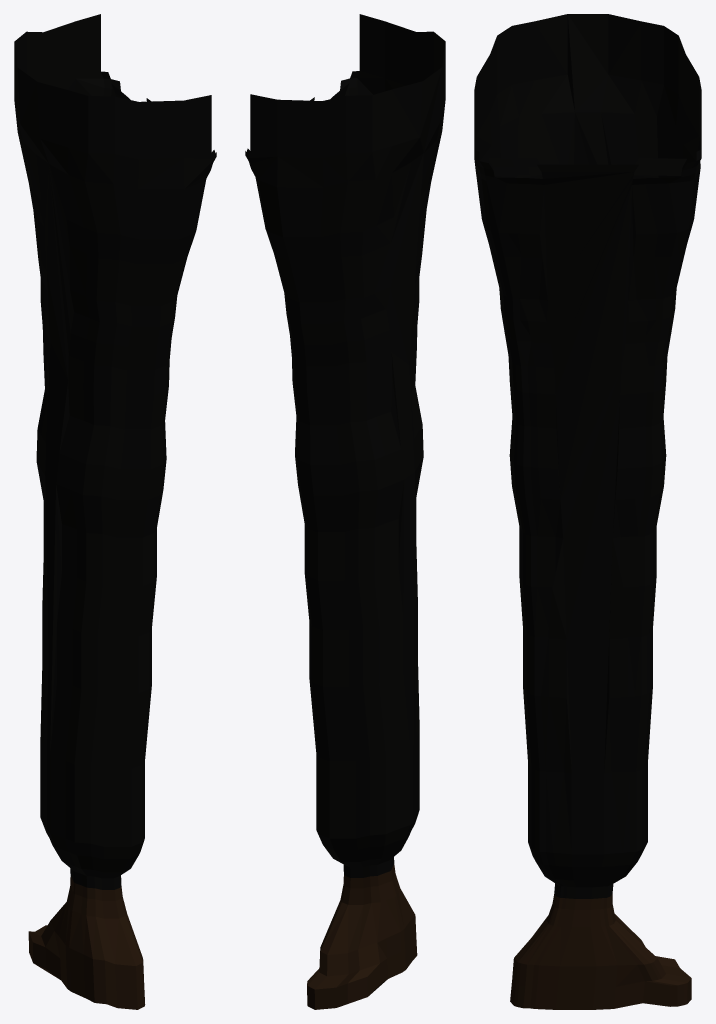
Rendered from P_left_leg.obj.
3 views of the same model, side by side, from view 1: azimuth 30°, elevation 25°; view 2: azimuth 150°, elevation 25°; view 3: azimuth 270°, elevation 25° (orthographic). The views are drawn at different scales.
Parts seen in each view (by area): view 1: Plane.004; view 2: Plane.004; view 3: Plane.004.
Boxes of the visible parts, left/top/right/bottom form: Plane.004: left=14, top=14, right=216, bottom=1009; Plane.004: left=245, top=14, right=445, bottom=1009; Plane.004: left=474, top=14, right=701, bottom=1009.
Bounding box in the file's own units: 0.1665 × 1.02 × 0.2216.
